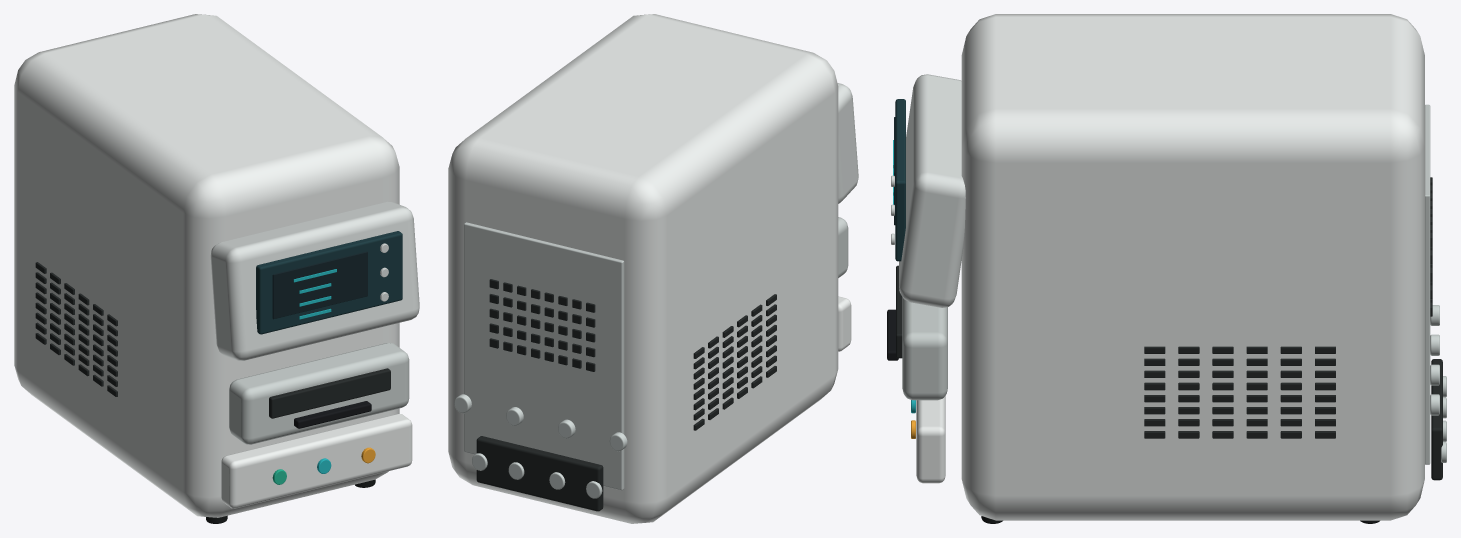
File: real-time-pcr.glb
3 renders of one model, left to right at view 1: azimuth 30°, elevation 25°; view 2: azimuth 150°, elevation 25°; view 3: azimuth 270°, elevation 25°, orthographic. The views are drawn at different scales.
Visible parts, largest first — view 1: Runtime batch - Cool white instrument polymer, Runtime batch - Light bead-blasted aluminum, Runtime batch - Light instrument gray powder coat, Runtime batch - Casework seam shadow, Runtime batch - Smoked control display, Runtime batch - Smoked instrument display glass, Runtime batch - Matte black coated handle, Runtime batch - Teal status display graphics; view 2: Runtime batch - Cool white instrument polymer, Runtime batch - Light instrument gray powder coat, Runtime batch - Casework seam shadow, Runtime batch - Brushed analytical silver, Runtime batch - Light bead-blasted aluminum; view 3: Runtime batch - Cool white instrument polymer, Runtime batch - Light bead-blasted aluminum, Runtime batch - Casework seam shadow, Runtime batch - Light instrument gray powder coat, Runtime batch - Smoked control display, Runtime batch - Brushed analytical silver.
Part boxes in pixels (bbox=[...]): Runtime batch - Cool white instrument polymer: bbox=[14, 14, 412, 517]; Runtime batch - Light bead-blasted aluminum: bbox=[210, 201, 419, 360]; Runtime batch - Light instrument gray powder coat: bbox=[229, 343, 409, 444]; Runtime batch - Casework seam shadow: bbox=[35, 262, 390, 418]; Runtime batch - Smoked control display: bbox=[256, 231, 402, 334]; Runtime batch - Smoked instrument display glass: bbox=[272, 251, 367, 319]; Runtime batch - Matte black coated handle: bbox=[294, 401, 371, 428]; Runtime batch - Teal status display graphics: bbox=[293, 269, 336, 473]; Runtime batch - Cool white instrument polymer: bbox=[448, 14, 851, 523]; Runtime batch - Light instrument gray powder coat: bbox=[464, 217, 848, 490]; Runtime batch - Casework seam shadow: bbox=[476, 279, 776, 511]; Runtime batch - Brushed analytical silver: bbox=[454, 394, 627, 498]; Runtime batch - Light bead-blasted aluminum: bbox=[837, 83, 858, 203]; Runtime batch - Cool white instrument polymer: bbox=[916, 14, 1424, 520]; Runtime batch - Light bead-blasted aluminum: bbox=[891, 74, 965, 307]; Runtime batch - Casework seam shadow: bbox=[896, 177, 1442, 480]; Runtime batch - Light instrument gray powder coat: bbox=[902, 104, 1430, 464]; Runtime batch - Smoked control display: bbox=[895, 99, 905, 261]; Runtime batch - Brushed analytical silver: bbox=[1430, 305, 1446, 462].
Size of the model in its own units: 0.27 by 0.4 by 0.491.
